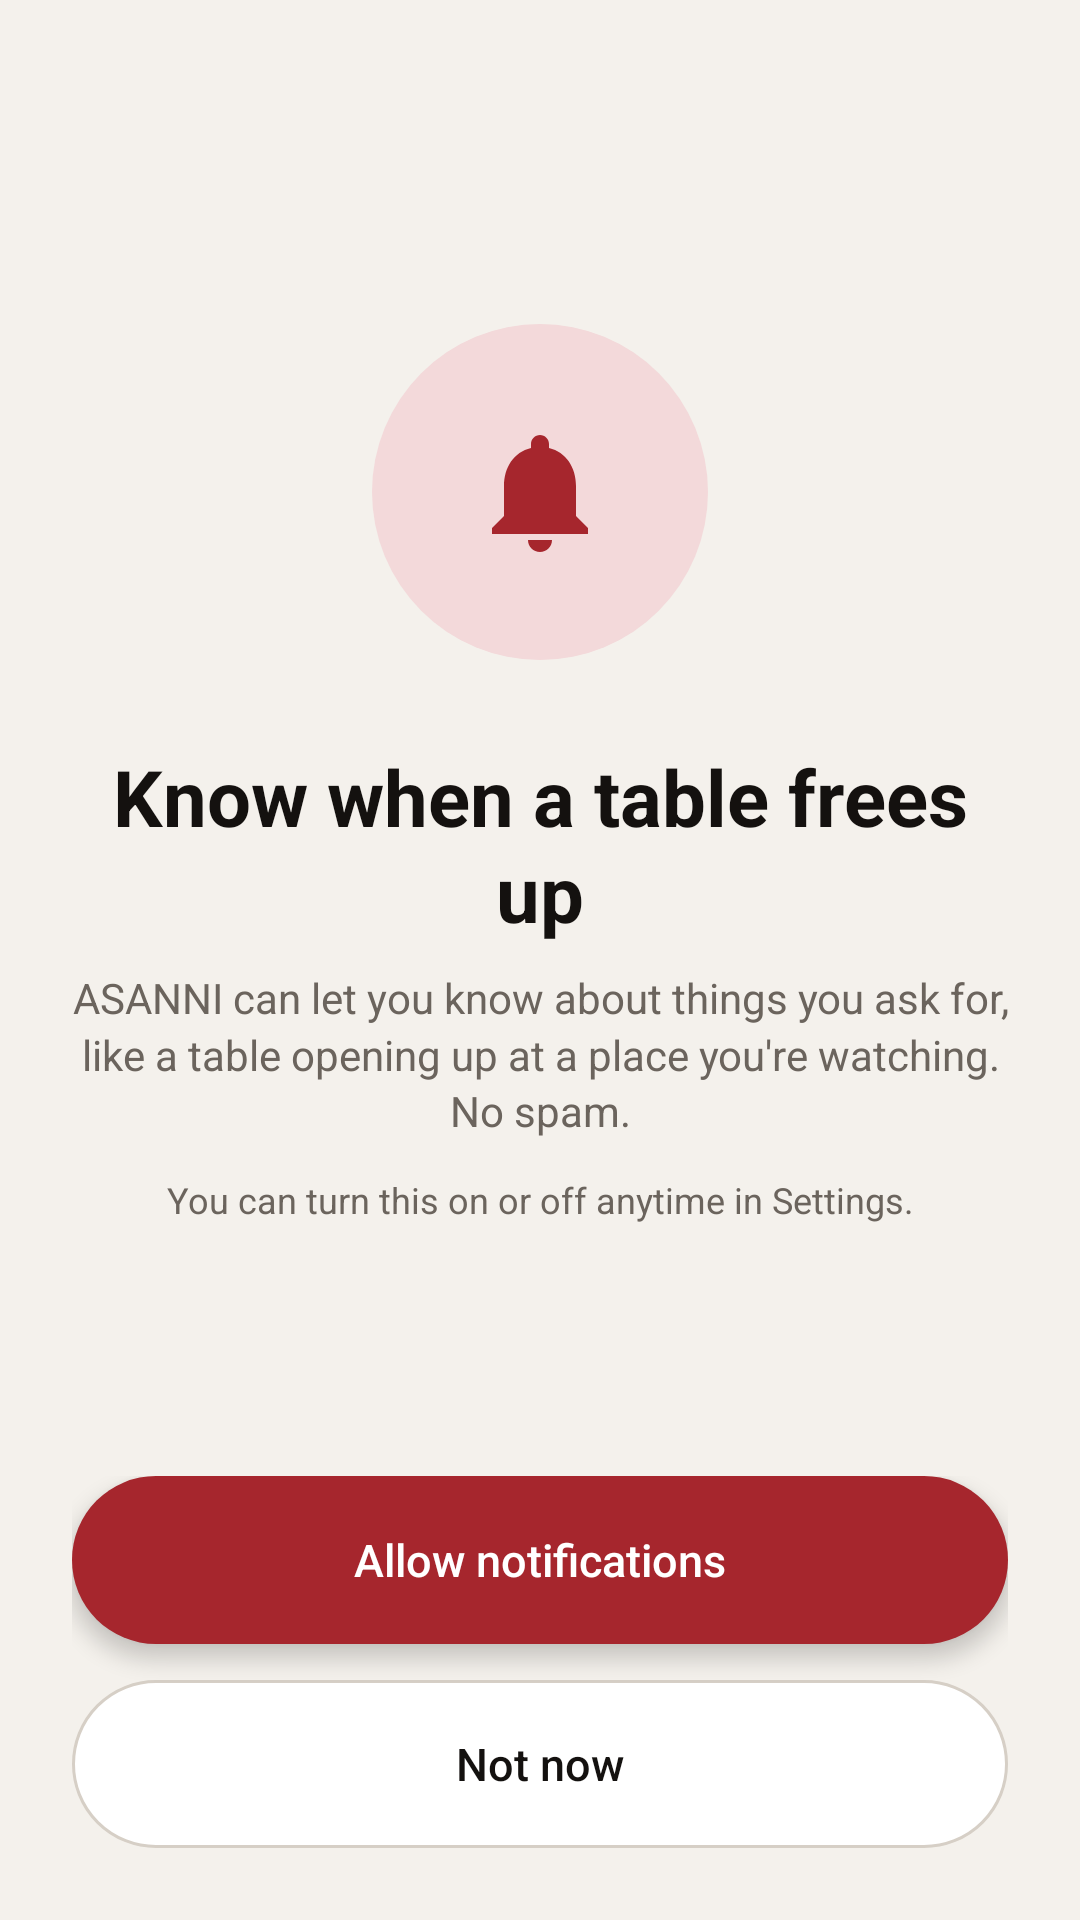

Screen size 1080×1920. Icon name, then its center in pixels as (x=x, y=y):
notifications: (x=540, y=493)
